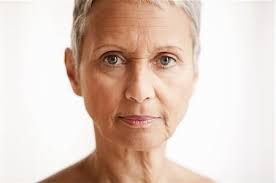white_female: (85, 24, 193, 152)
